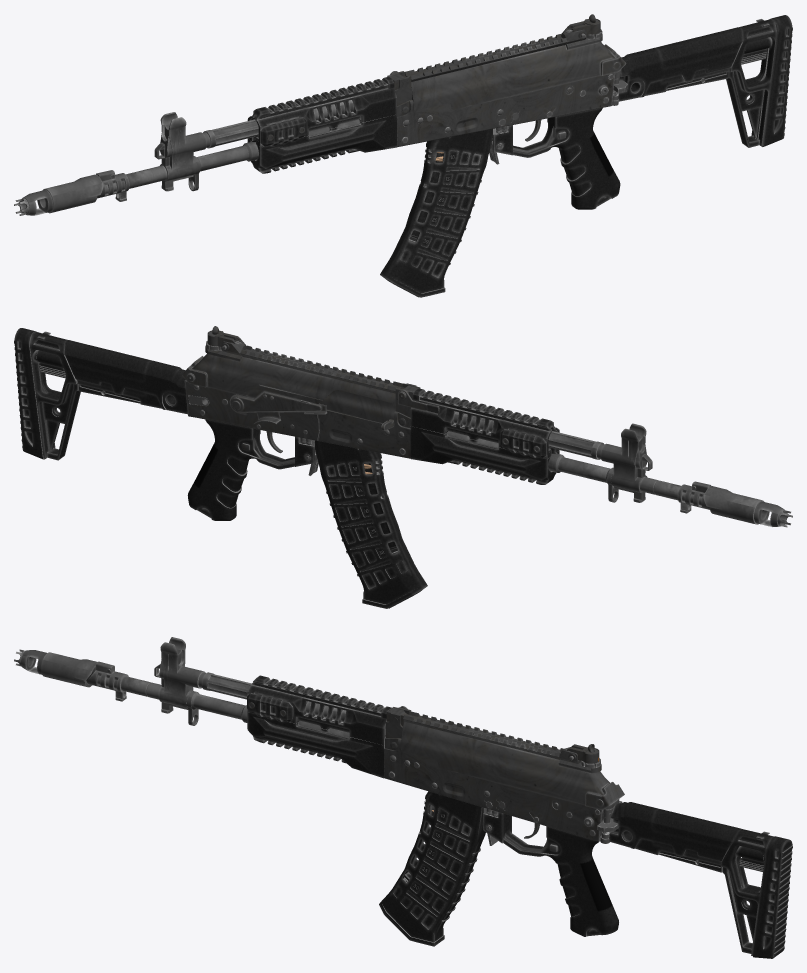
The picture shows the model from 3 angles, top to bottom: view 1: azimuth 30°, elevation 25°; view 2: azimuth 150°, elevation 25°; view 3: azimuth 330°, elevation 25°; orthographic projection.
Parts seen in each view (by area): view 1: ak_12_low_poly; view 2: ak_12_low_poly; view 3: ak_12_low_poly.
Part boxes in pixels (x1,y1,x2,y2): ak_12_low_poly: (14, 14, 792, 297); ak_12_low_poly: (14, 326, 792, 608); ak_12_low_poly: (14, 637, 792, 958).
Size of the model in its own units: 9352 by 2766 by 506.
Materials: 2 (2 with a texture image).
